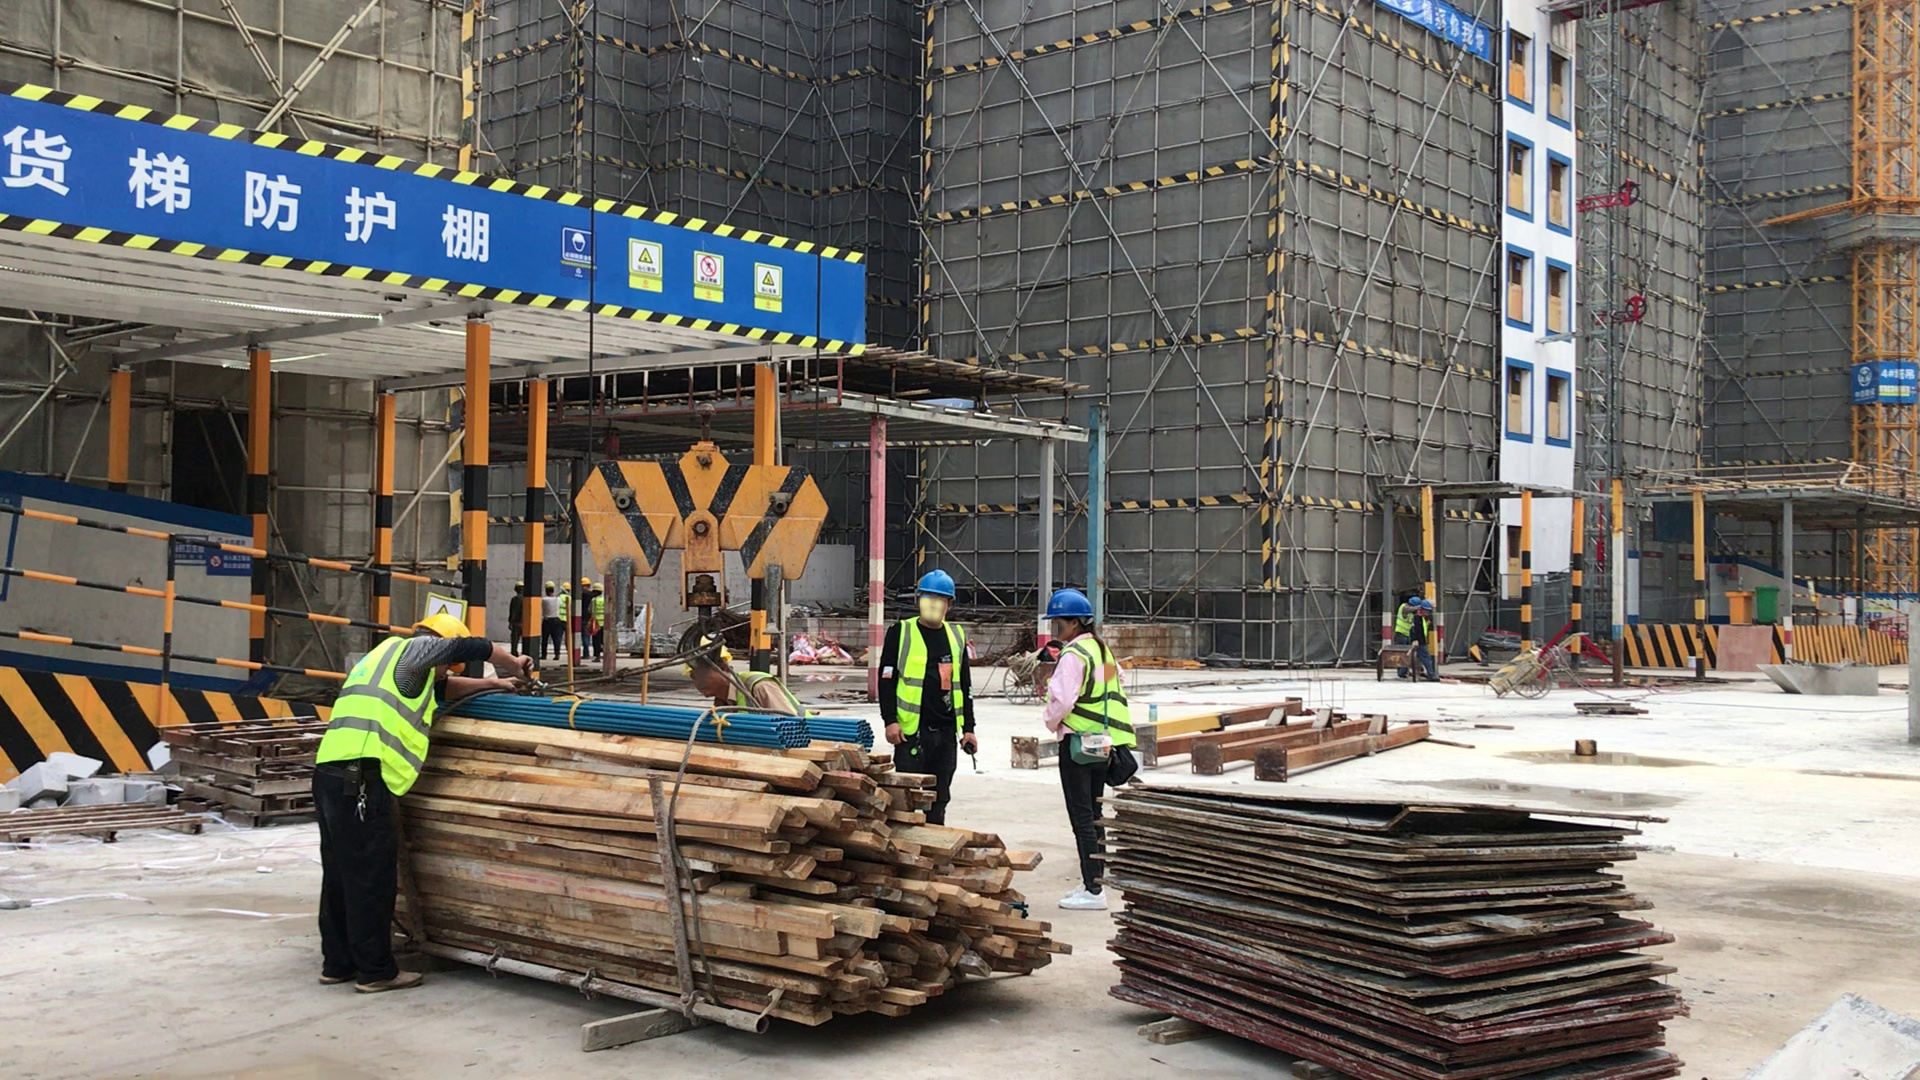helmet: (411, 612, 470, 645), (1042, 587, 1094, 620), (915, 565, 957, 602), (1418, 599, 1433, 611), (590, 583, 605, 593), (1409, 597, 1421, 607), (513, 580, 523, 589), (582, 576, 591, 586), (545, 581, 555, 589), (560, 582, 570, 590)
person: (308, 593, 489, 1001), (1033, 587, 1140, 909), (875, 558, 984, 790), (684, 641, 801, 722), (1419, 594, 1442, 682), (541, 578, 560, 662), (507, 581, 526, 657), (1393, 596, 1417, 644), (591, 580, 604, 659), (560, 582, 573, 655), (581, 576, 592, 657)
vest: (317, 637, 436, 799), (1055, 633, 1141, 757), (891, 612, 972, 737), (735, 670, 799, 718), (1393, 604, 1413, 635), (591, 595, 604, 626), (559, 594, 572, 622)
